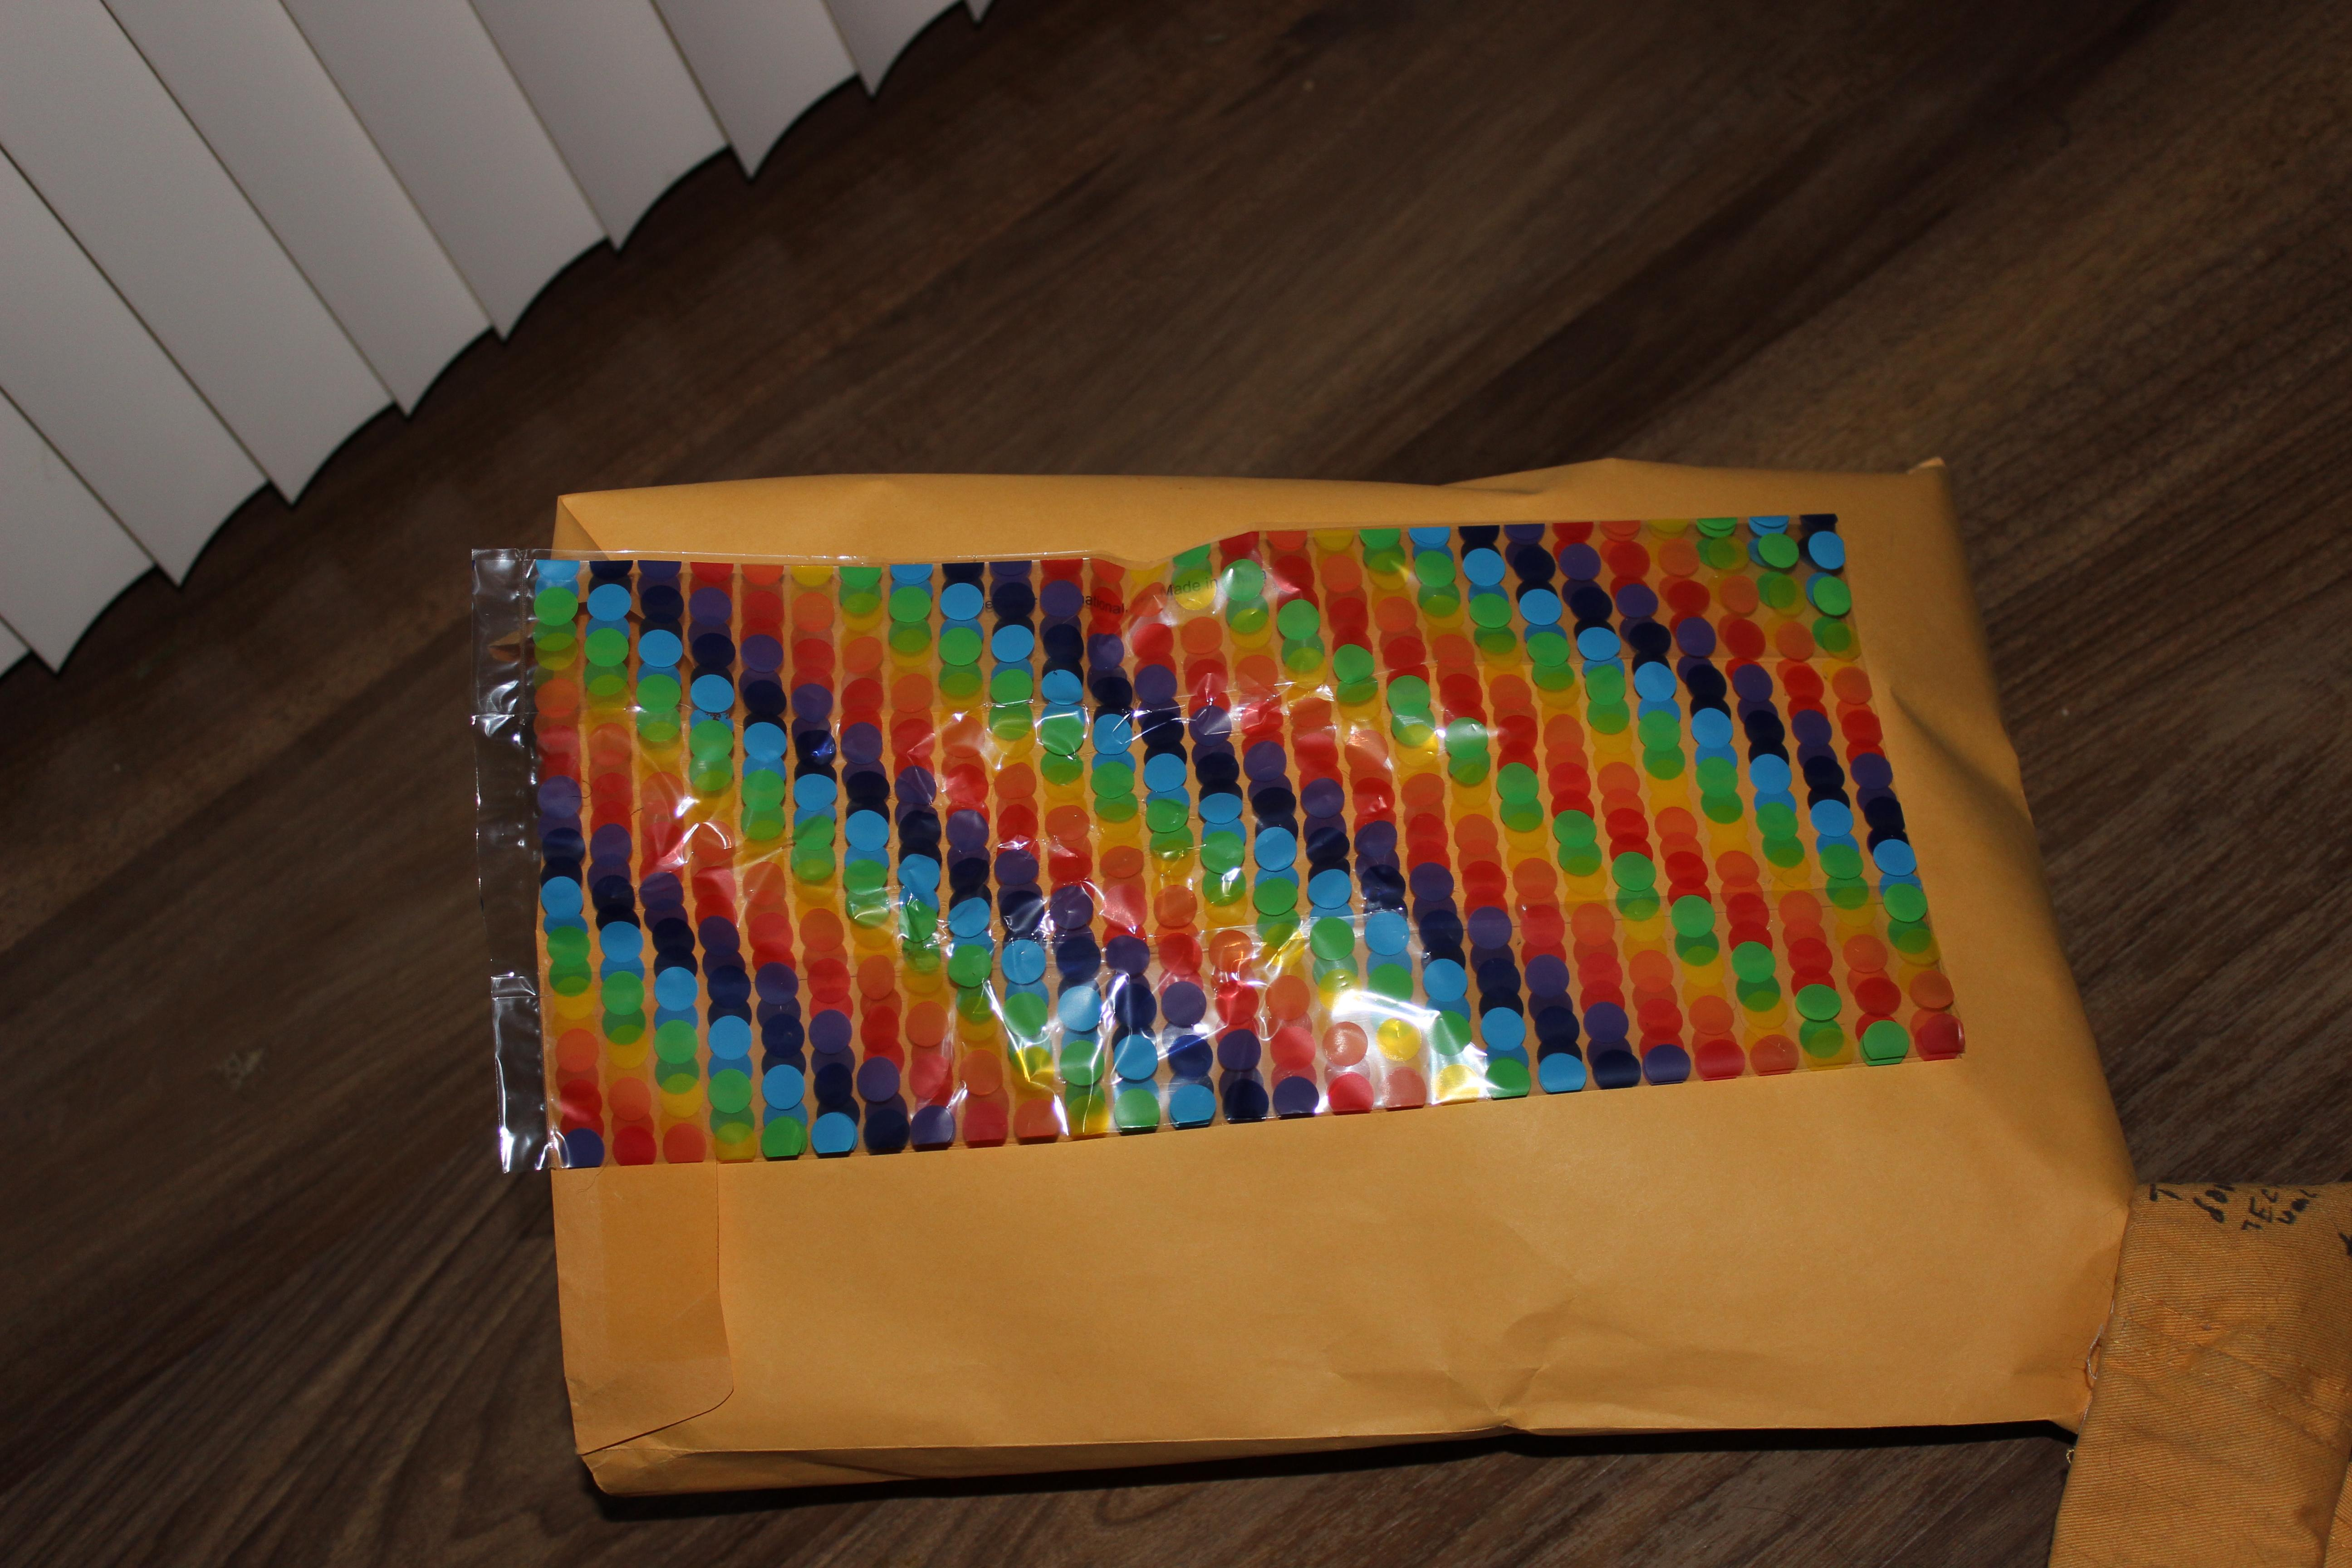giftBag: (450, 499, 1983, 1192)
